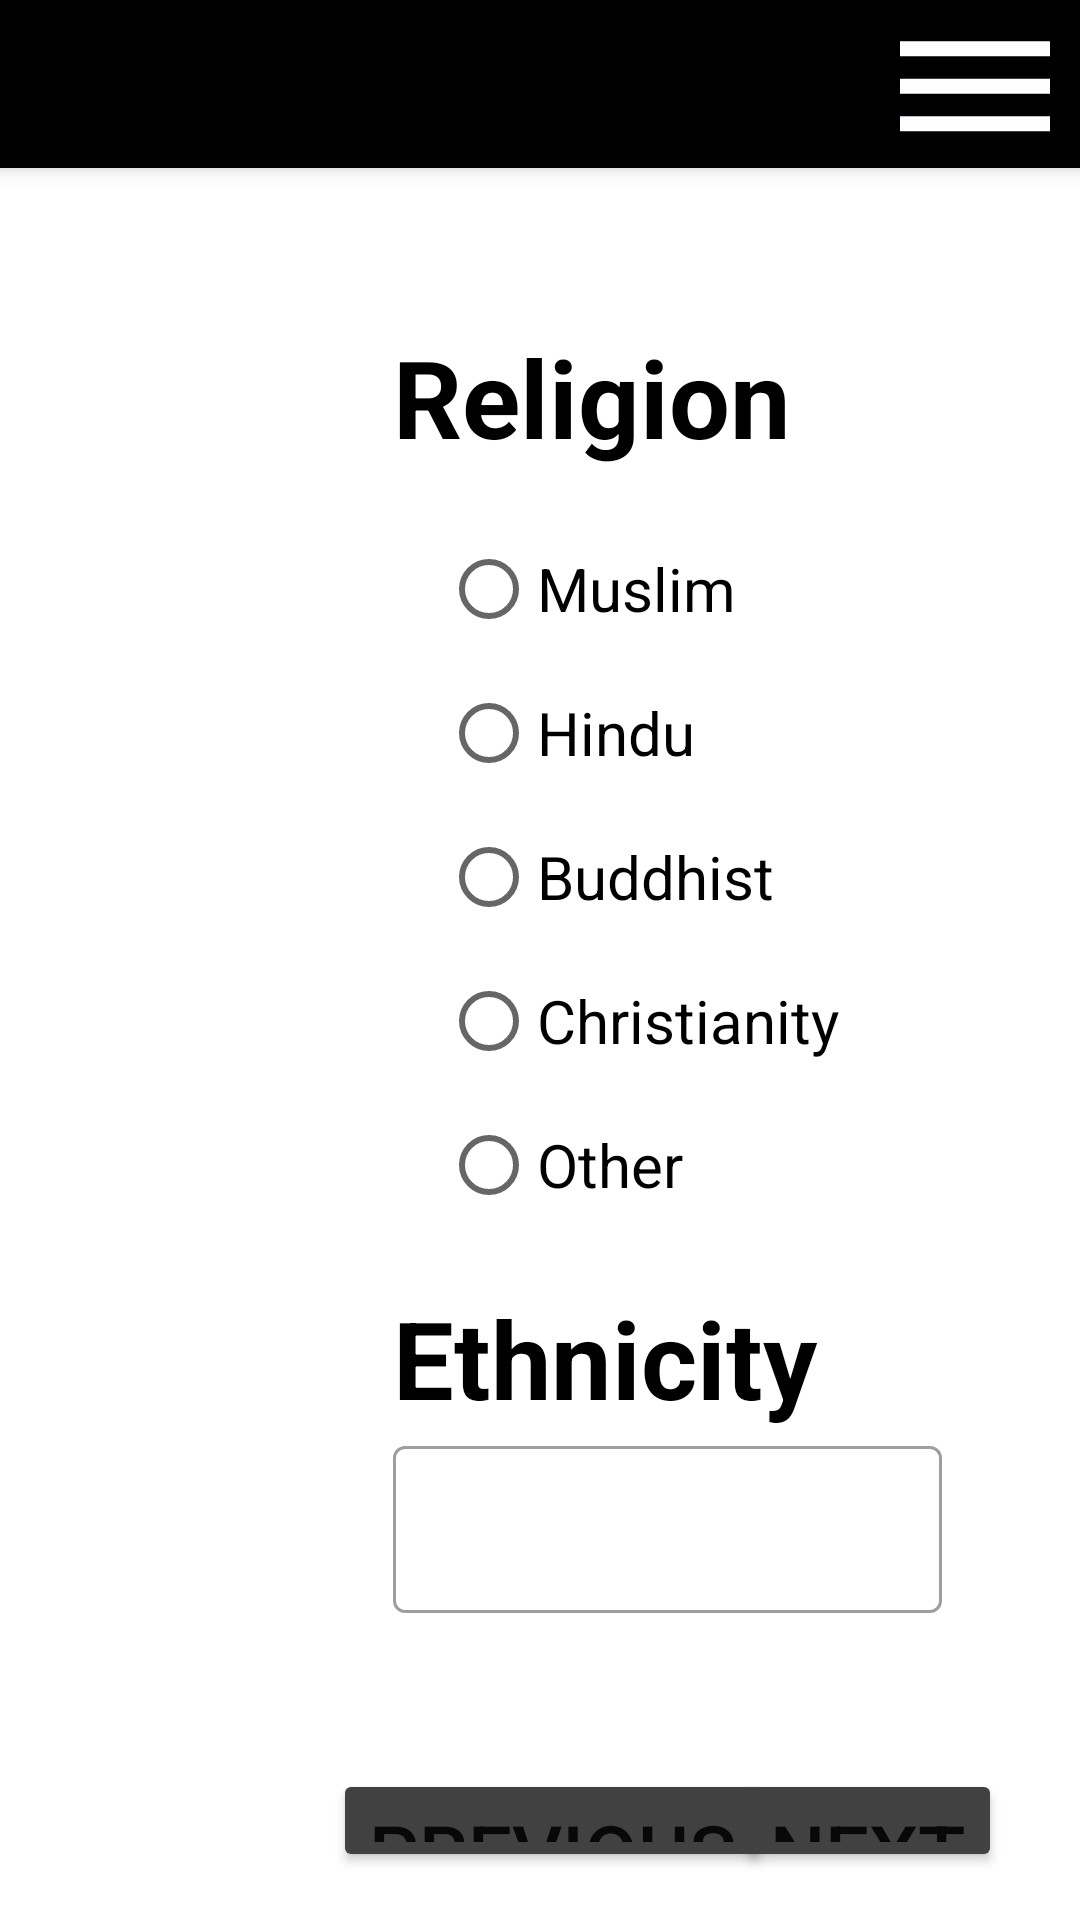

Locate icon controls on the screen. Image size 1080w x 1920h, boxes as (x1, y1, x2, y2).
dehaze: (900, 41, 1050, 132)
